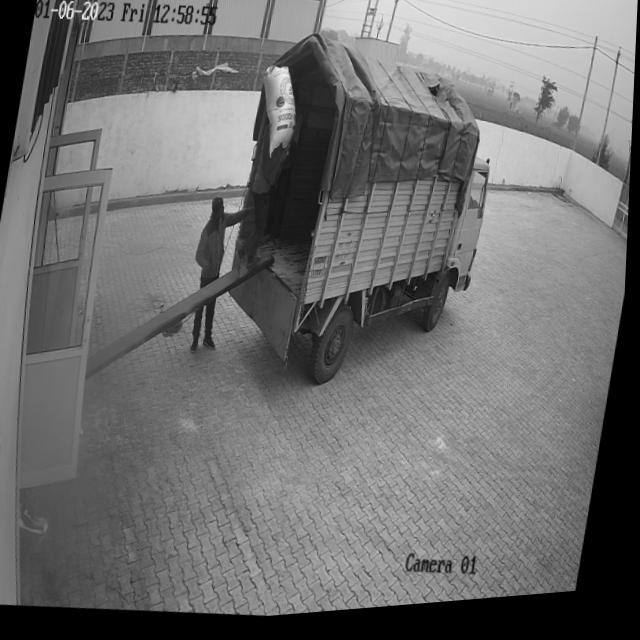sack: (252, 65, 305, 161)
